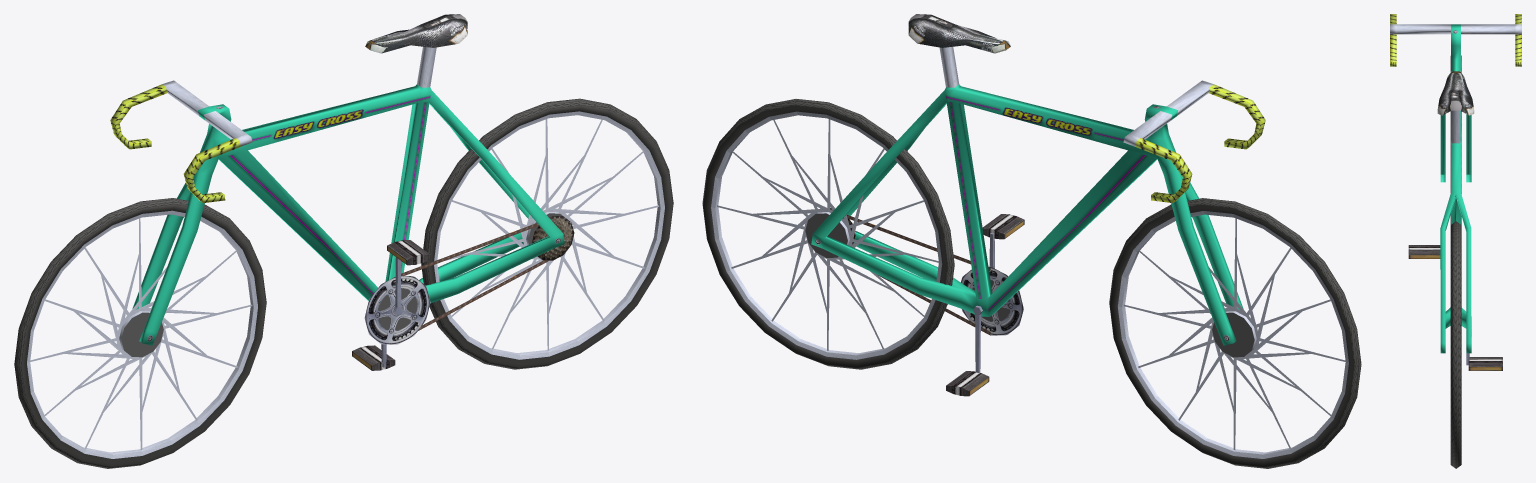
The model's file is UDC_BycicleAzure.obj.
3 renders of one model, left to right at view 1: azimuth 30°, elevation 25°; view 2: azimuth 150°, elevation 25°; view 3: azimuth 270°, elevation 25°, orthographic. The views are drawn at different scales.
Parts seen in each view (by area): view 1: UDC_BycicleAzure; view 2: UDC_BycicleAzure; view 3: UDC_BycicleAzure.
Boxes of the visible parts, x1,y1,x2,y2 form: UDC_BycicleAzure: (14,14,673,468); UDC_BycicleAzure: (702,14,1361,468); UDC_BycicleAzure: (1390,14,1521,468).
Size of the model in its own units: 0.6685 by 0.3616 by 0.1357.
1 material, 1 textured.
